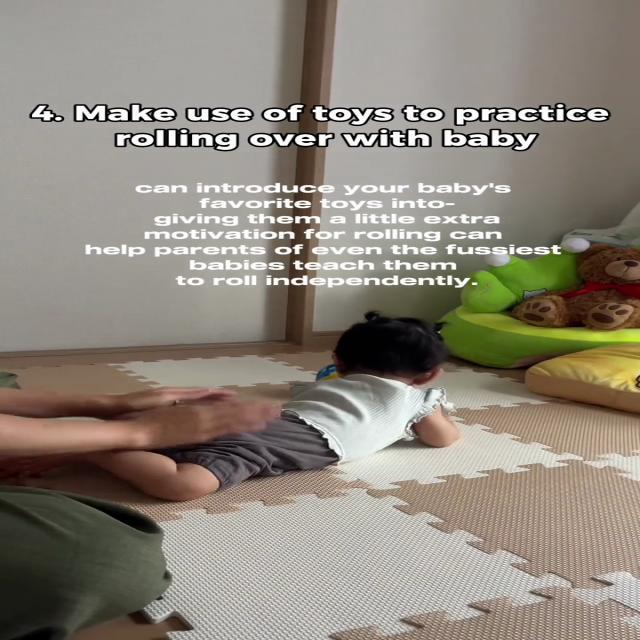baby: (6, 312, 478, 493)
